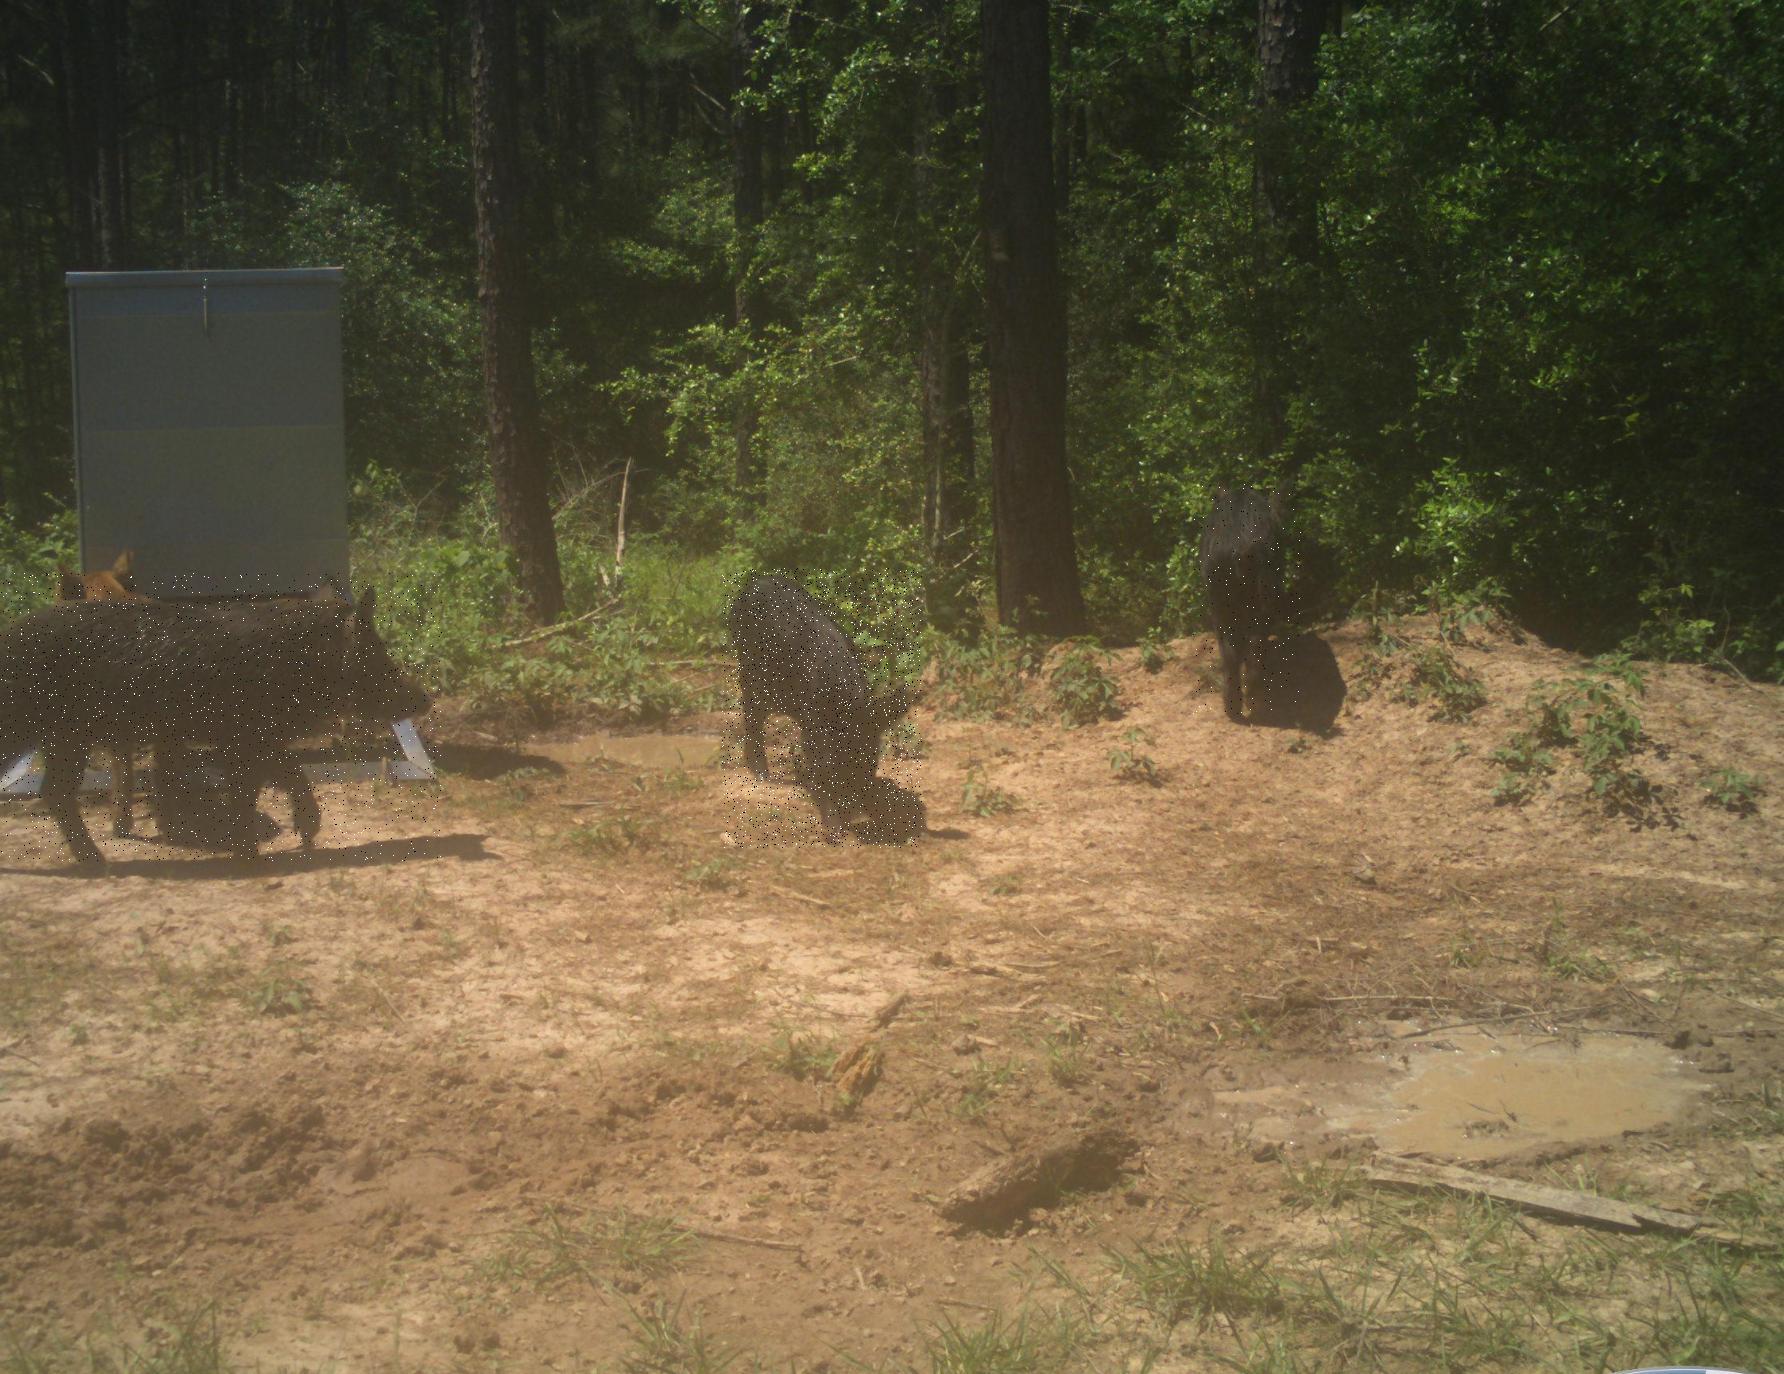Hog: (0, 573, 442, 862), (722, 567, 922, 849), (1192, 485, 1302, 714)
